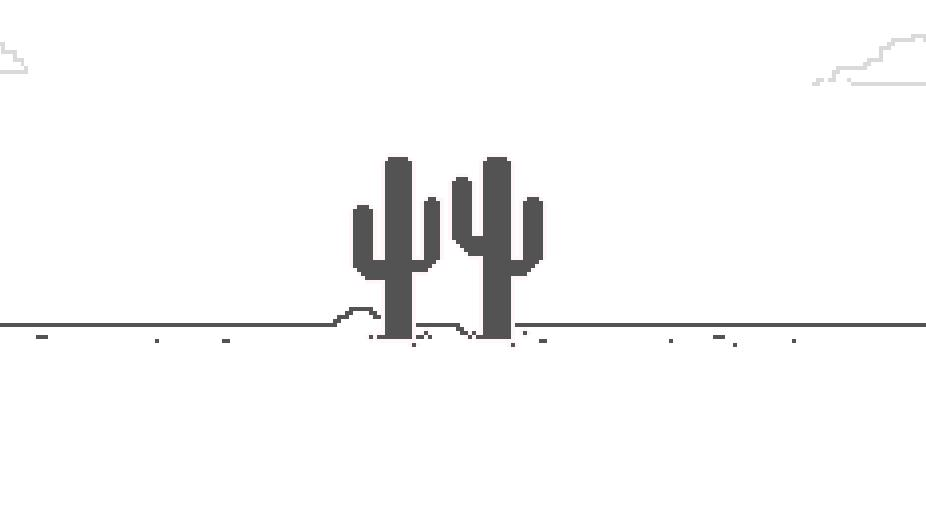pterodactyl: (347, 149, 548, 357)
